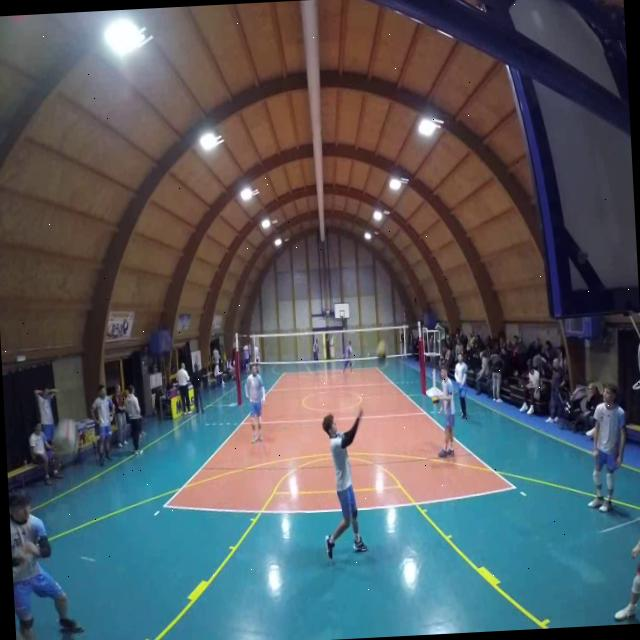Volleyball: (432, 389, 442, 408)
